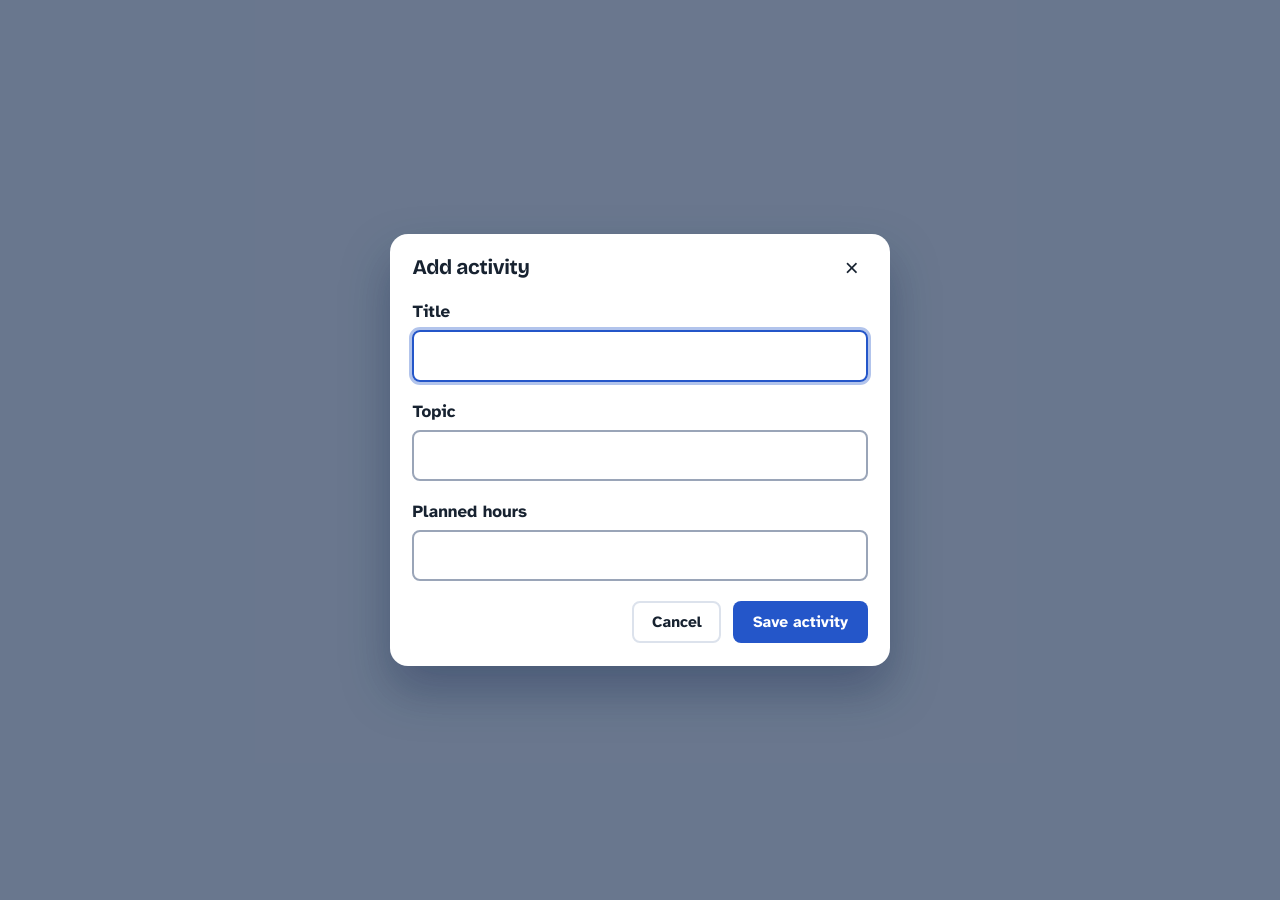
Test: ActivityModal › requires title, topic and planned hours
Click the button "Save activity".
click(801, 622)  # box [733,601,868,643]
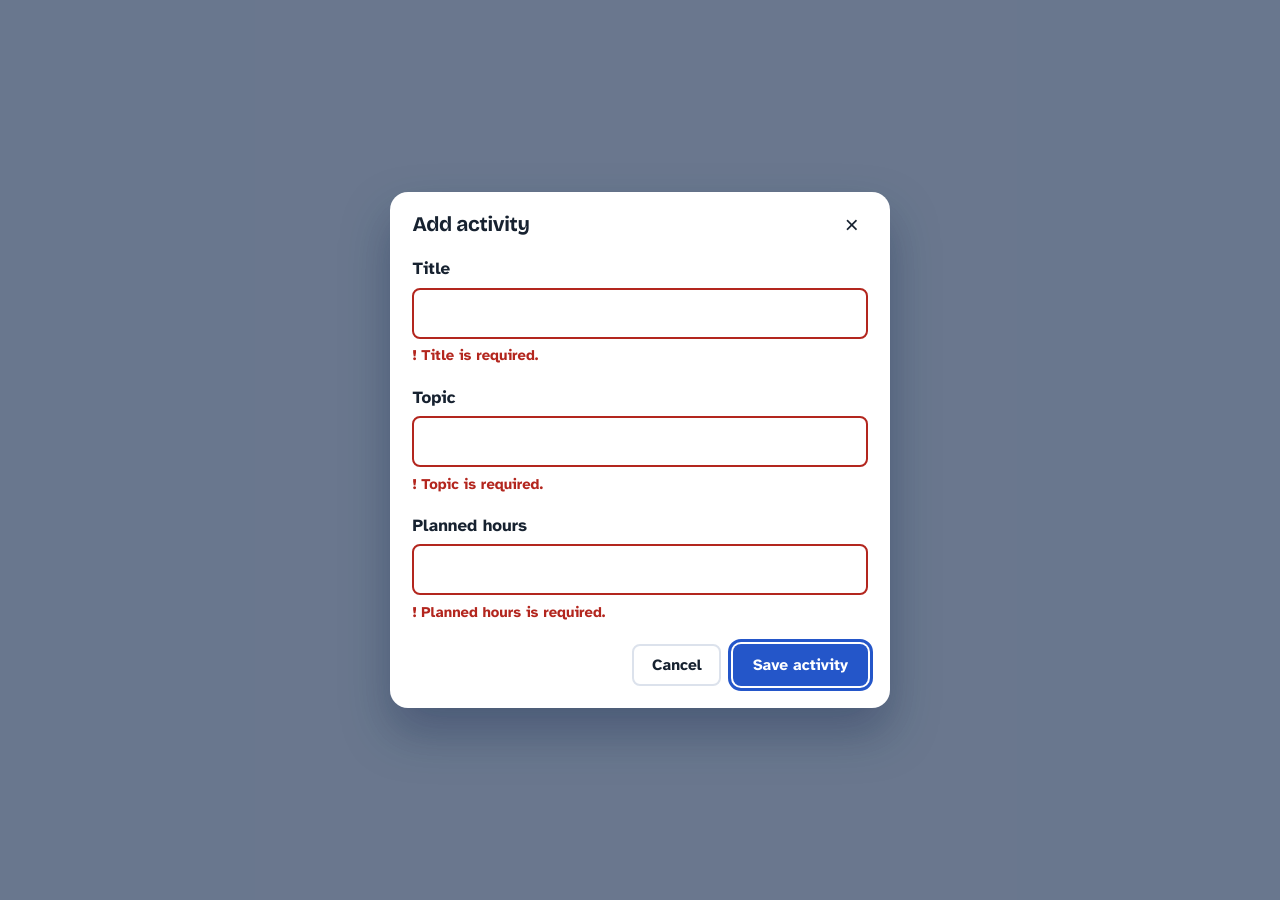
Expected: the text "Title is required." is shown, [421,346,538,364]
Expected: the text "Topic is required." is shown, [421,475,543,493]
Expected: the text "Planned hours is required." is shown, [421,603,605,621]
